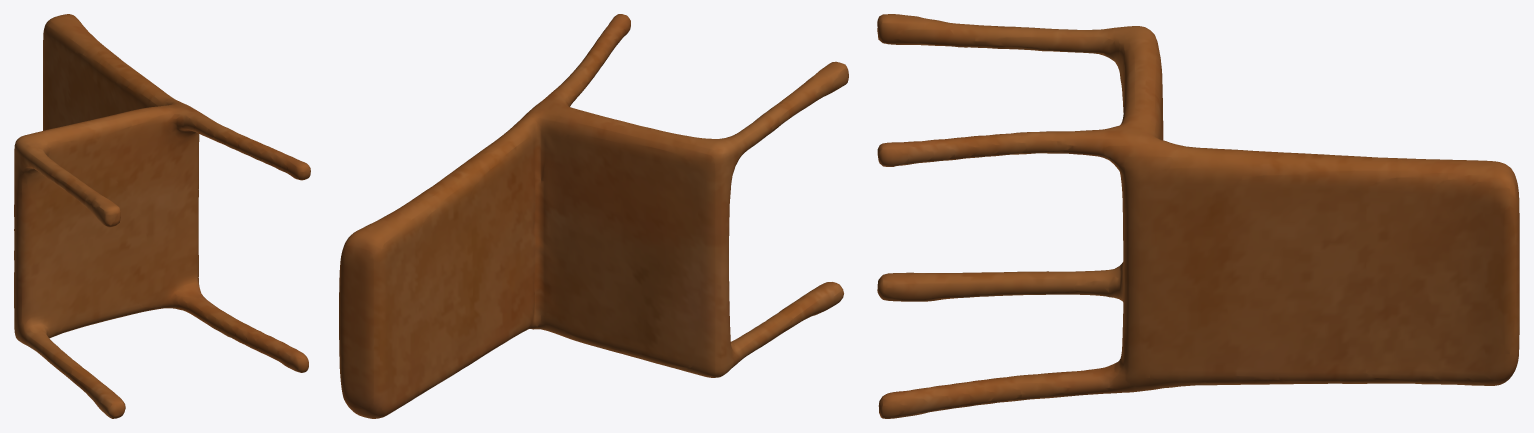
The model's file is an old style brown wooden chair with curved back a.glb.
The picture shows the model from 3 angles, left to right: view 1: azimuth 30°, elevation 25°; view 2: azimuth 150°, elevation 25°; view 3: azimuth 270°, elevation 25°; orthographic projection. The views are drawn at different scales.
Visible parts, largest first — view 1: an old style brown wooden chair with curved back a; view 2: an old style brown wooden chair with curved back a; view 3: an old style brown wooden chair with curved back a.
Part boxes in pixels (<box>): an old style brown wooden chair with curved back a: <box>14,14,310,418</box>; an old style brown wooden chair with curved back a: <box>339,14,848,418</box>; an old style brown wooden chair with curved back a: <box>877,14,1519,418</box>.
Bounding box in the file's own units: 0.5038 × 0.4828 × 1.
